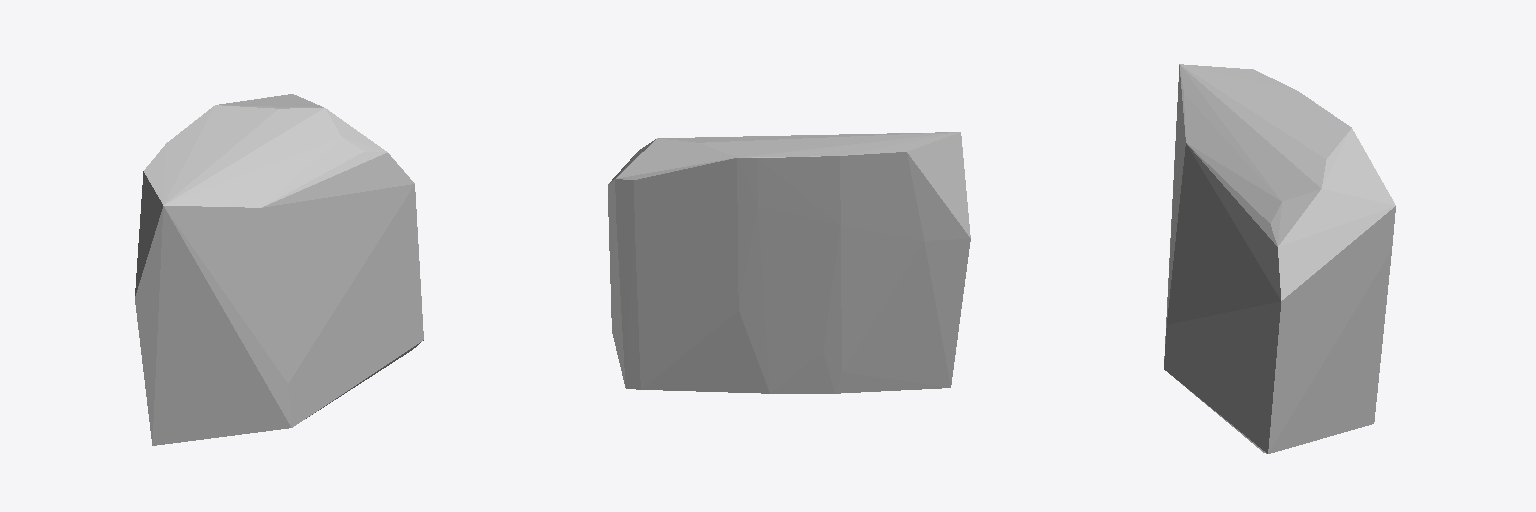
The model's file is trash_bin_collision_35.obj.
3 views of the same model, side by side, from view 1: azimuth 30°, elevation 25°; view 2: azimuth 150°, elevation 25°; view 3: azimuth 270°, elevation 25° (orthographic).
Size of the model in its own units: 0.055 by 0.0409 by 0.0342.